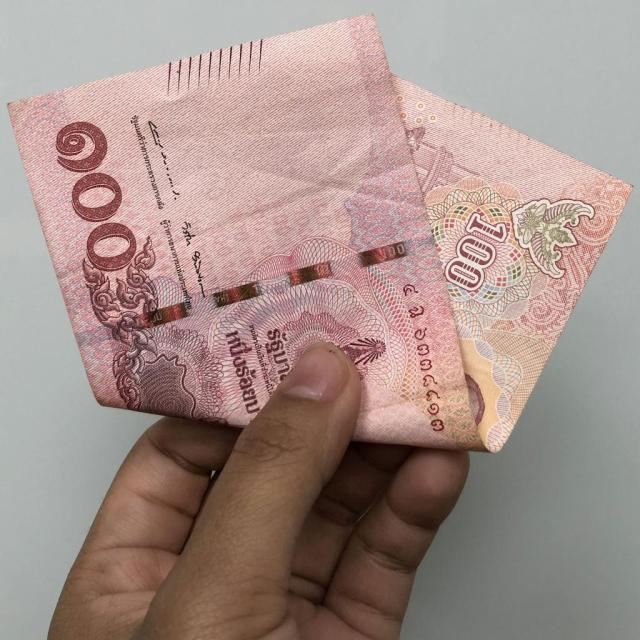THAI100: (8, 15, 630, 452)
